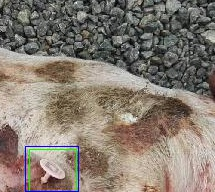text: (29, 149, 76, 191)
